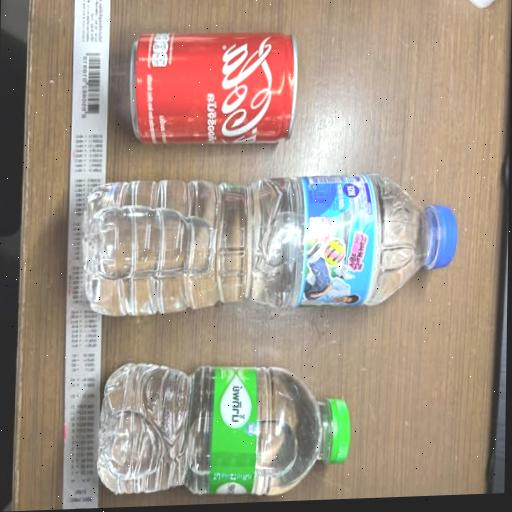bottle: (60, 150, 477, 346), (92, 337, 369, 508)
canned: (110, 13, 322, 162)
